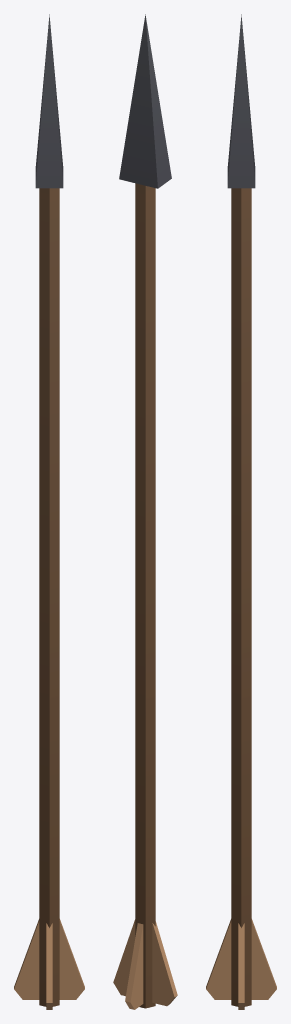
The model's file is Arrow_01.glb.
The picture shows the model from 3 angles, left to right: view 1: azimuth 90°, elevation 25°; view 2: azimuth 150°, elevation 25°; view 3: azimuth 270°, elevation 25°; orthographic projection.
Visible parts, largest first — view 1: Arrow_01_LOD0; view 2: Arrow_01_LOD0; view 3: Arrow_01_LOD0.
Part boxes in pixels (x1=…): Arrow_01_LOD0: x1=14, y1=14, x2=84, y2=1009; Arrow_01_LOD0: x1=113, y1=14, x2=177, y2=1009; Arrow_01_LOD0: x1=206, y1=14, x2=276, y2=1009.
Size of what is drawn, in the model's own units: 0.039 by 0.6 by 0.039.
1 material, 1 textured.
